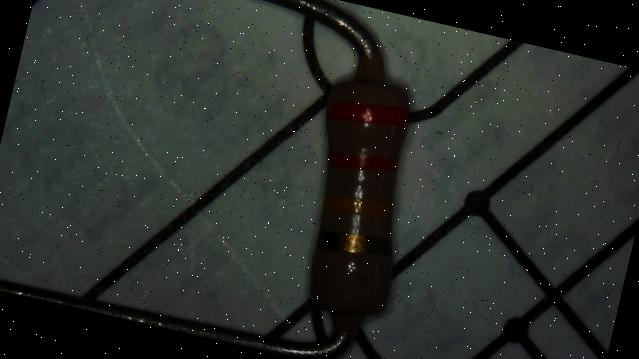gold: (318, 222, 396, 264)
orange: (326, 91, 410, 134), (328, 145, 398, 179)
resistor: (252, 32, 482, 348)
yellow: (324, 188, 393, 222)
